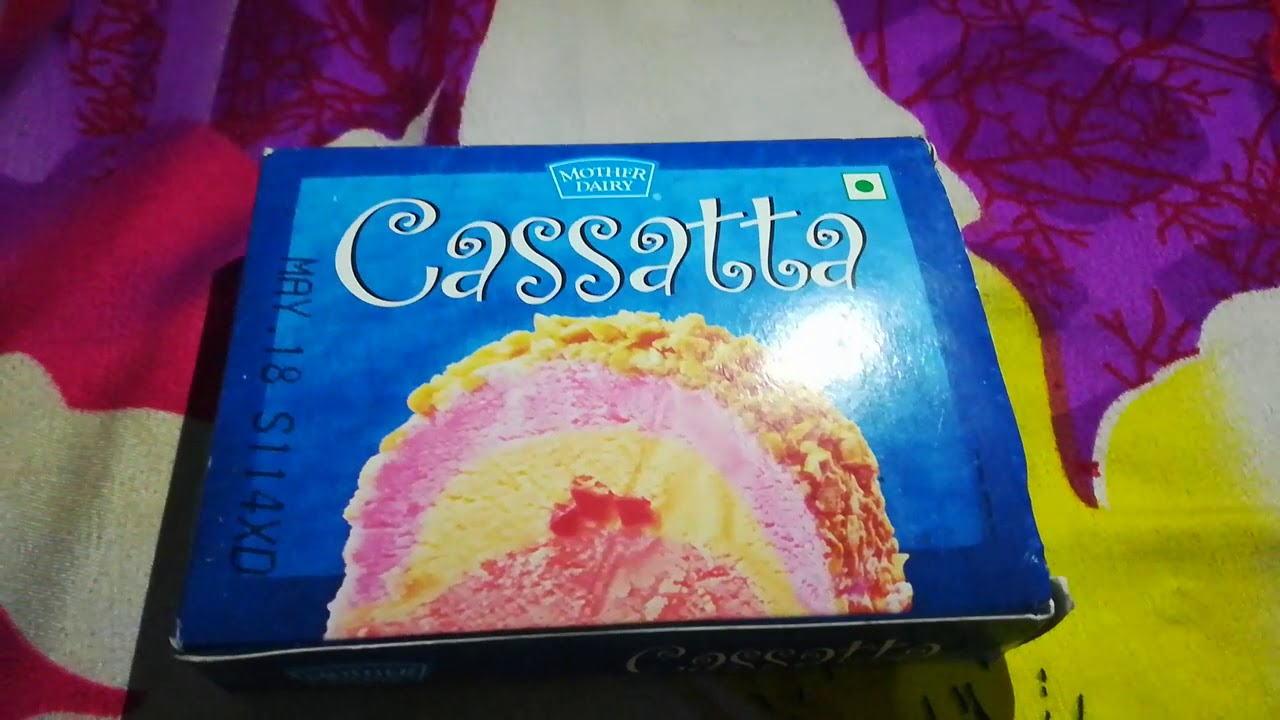Mother_Dairy: (538, 150, 666, 207)
